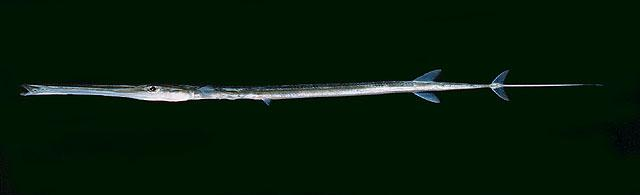Fistularia commersonii: (18, 67, 605, 107)
